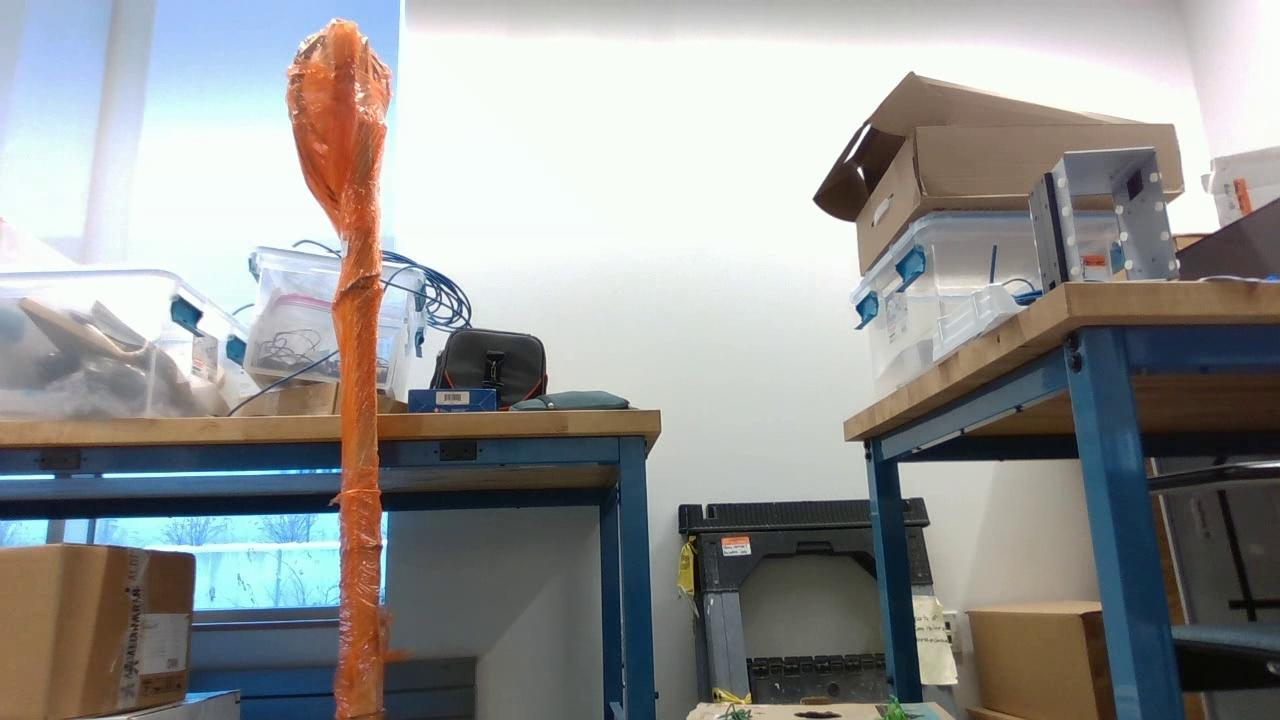grasshopper: (870, 697, 913, 719)
